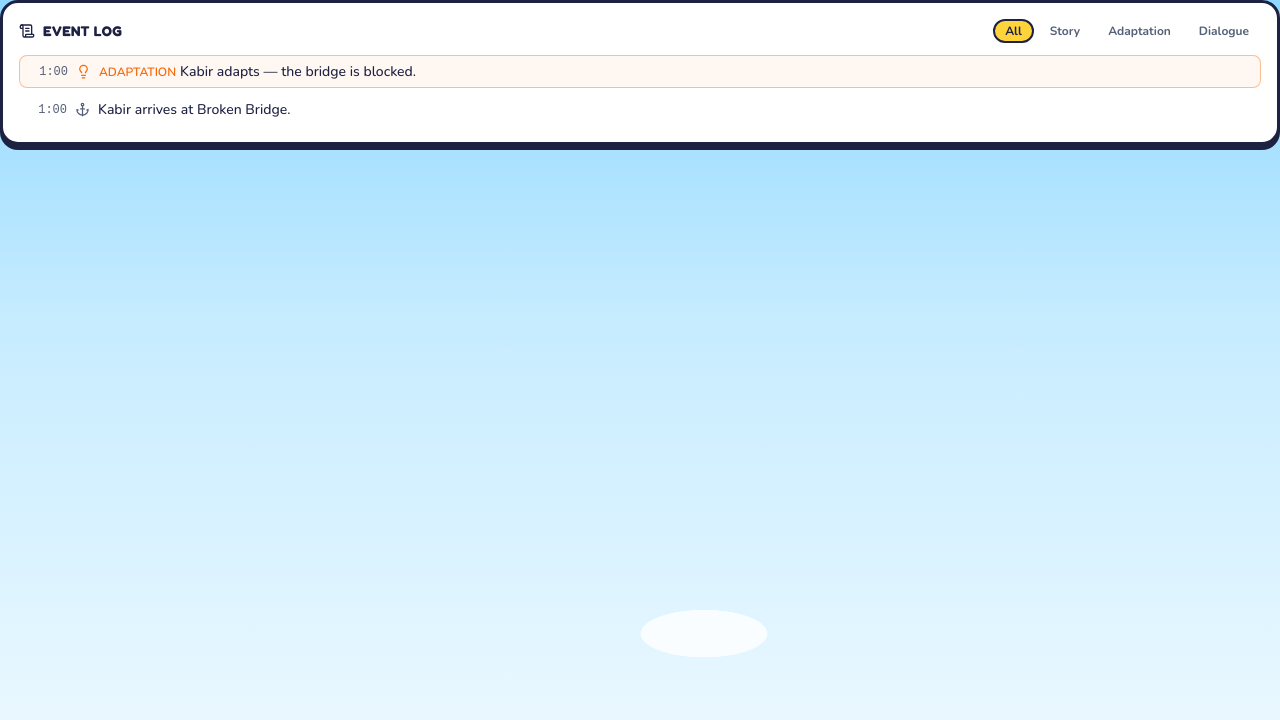
Test case: event log › filters to adaptations
The image size is (1280, 720).
Expected: the text "Kabir arrives at Broken Bridge." is shown, [98,100,290,119]
Click the tab "Adaptation" at [1139, 31], box [1096,19,1183,43]
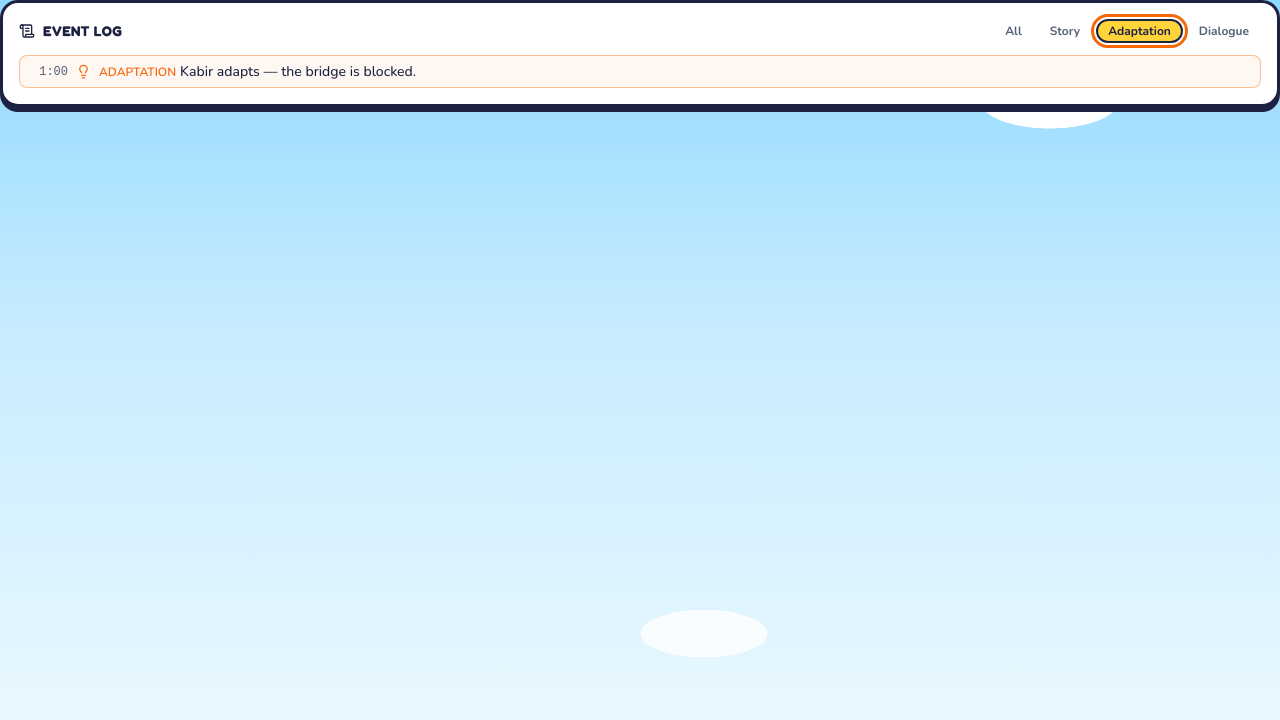
Expected: the text "Kabir adapts" is shown, [180,62,416,81]
Now the text "Kabir arrives" is gone
